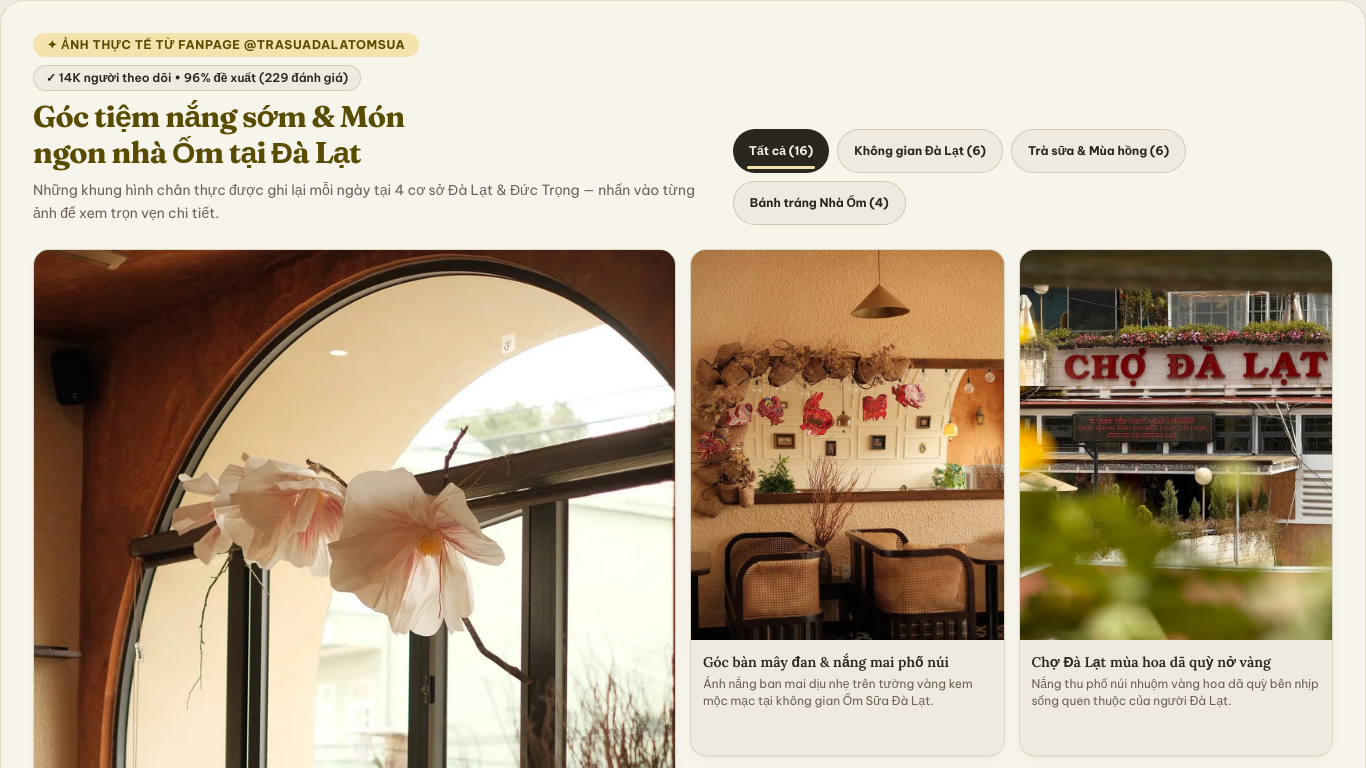
it: FanpageGallerySection, PhotoLightboxModal & BrandFooter social/branch photos › filters gallery photos by category, cycles lightbox with ArrowRight/ArrowLeft wrap-around, and restores focus on Escape
Expected: the text "✓ 14K người theo dõi • 96% đề xuất (229 đánh giá)" is shown, x1=33 y1=65 x2=361 y2=91
Click the button "Bánh tráng Nhà Ốm (4)" at (819, 202), box x1=733 y1=180 x2=906 y2=224
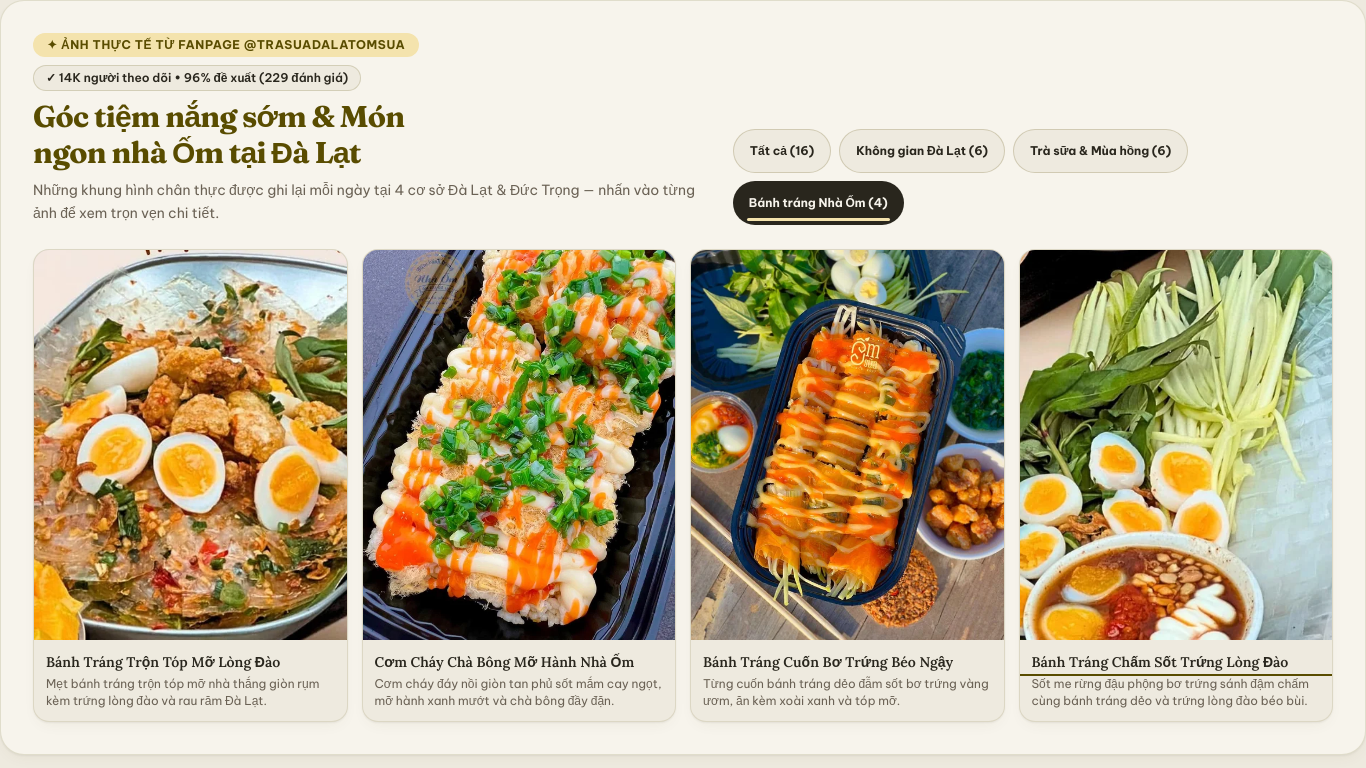
Expected: the number of buttons named "Xem ảnh lớn" is 4
Click the button named "Xem ảnh lớn" at (1176, 461), box x1=1020 y1=250 x2=1332 y2=672
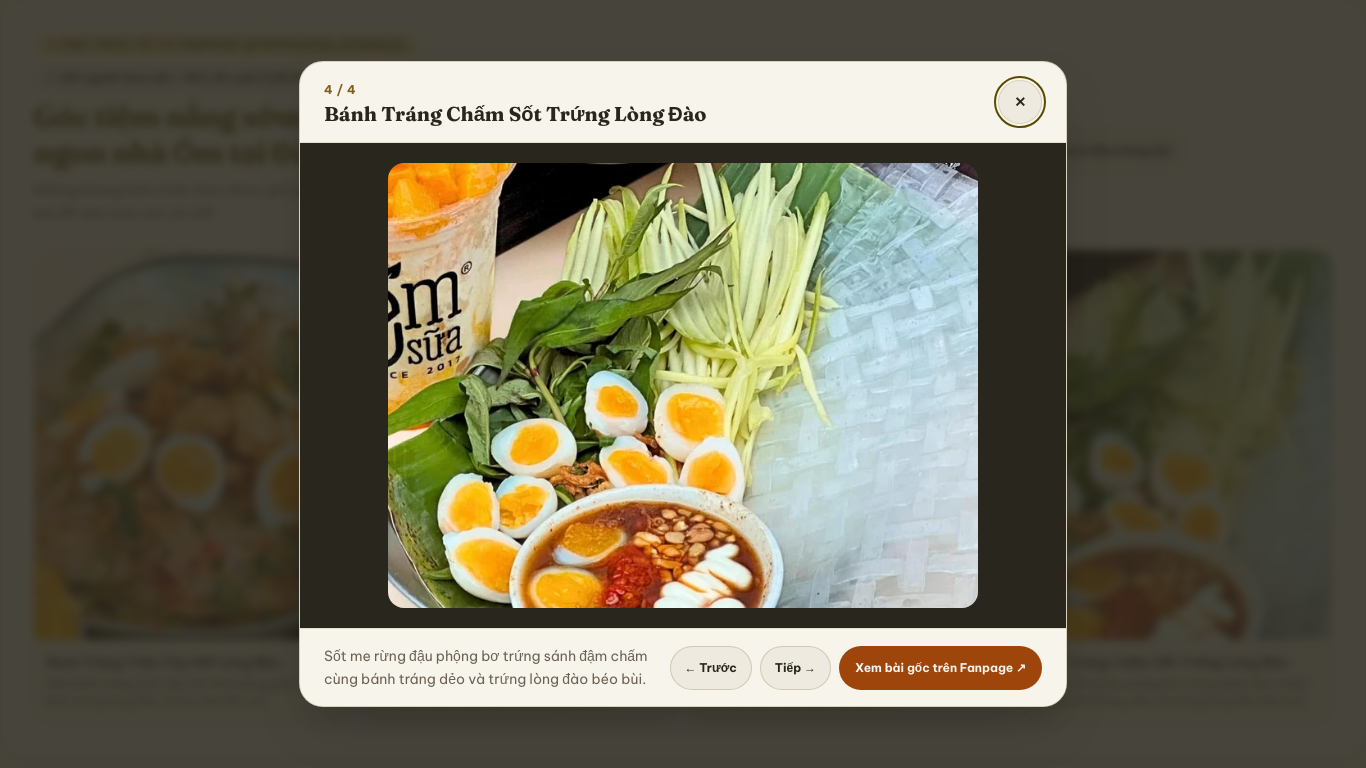
Expected: the text "4 / 4" is shown, x1=324 y1=82 x2=356 y2=96
Press ArrowRight
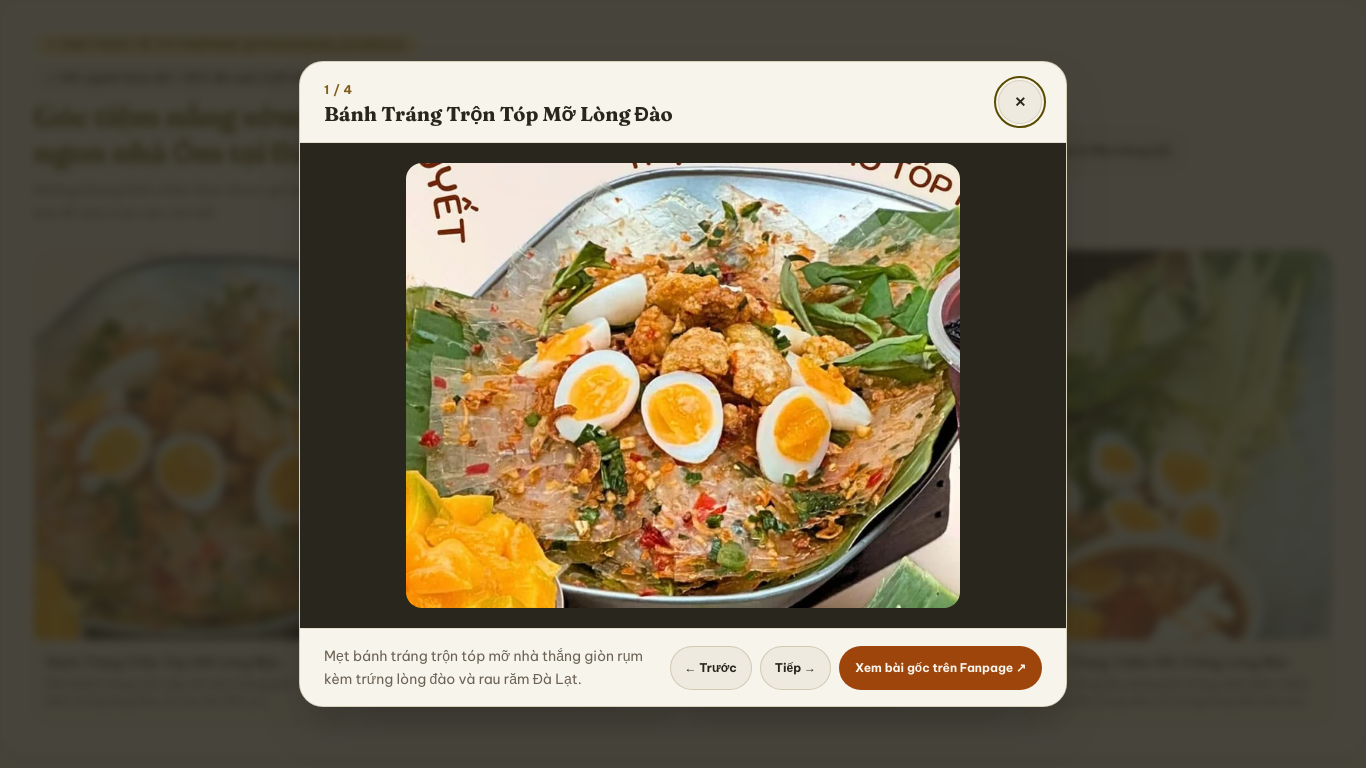
Expected: the text "1 / 4" is shown, x1=324 y1=82 x2=353 y2=96
Press ArrowLeft
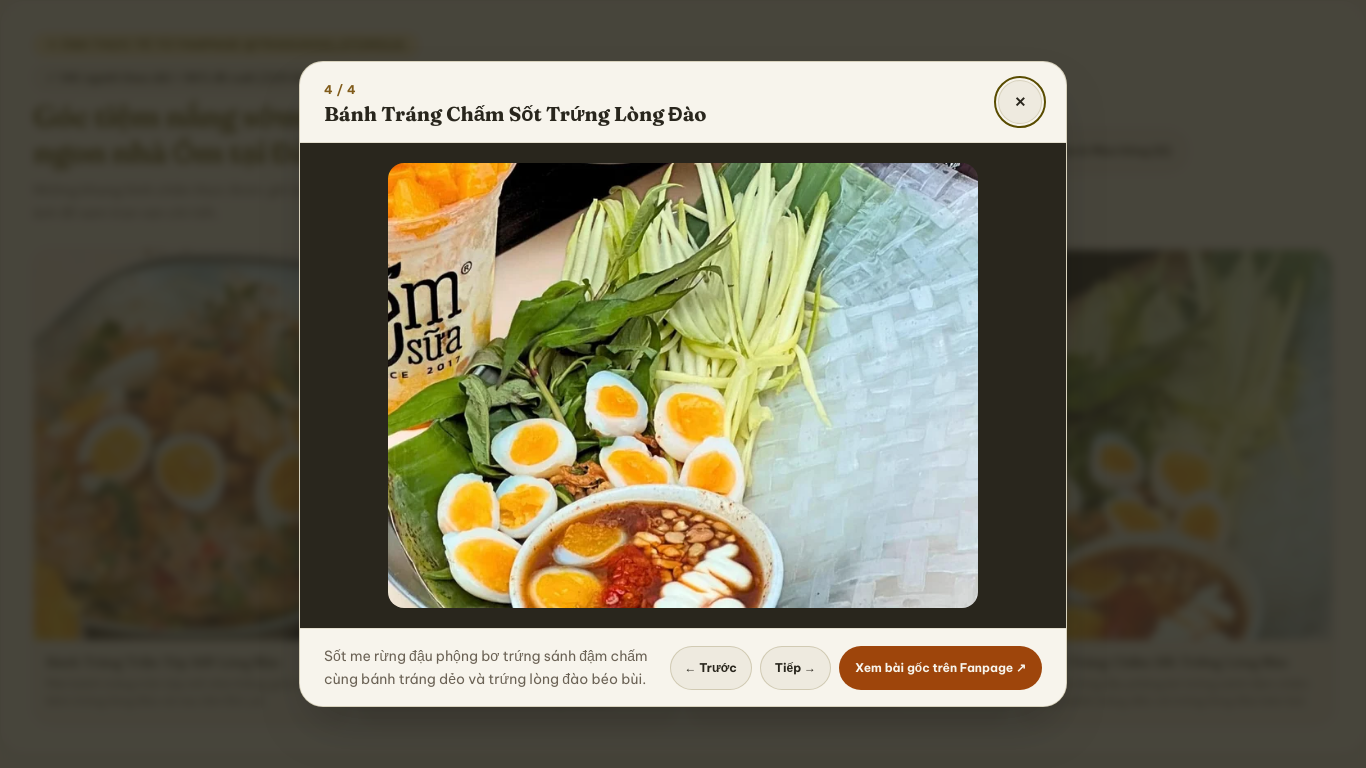
Expected: the text "4 / 4" is shown, x1=324 y1=82 x2=356 y2=96
Press Escape
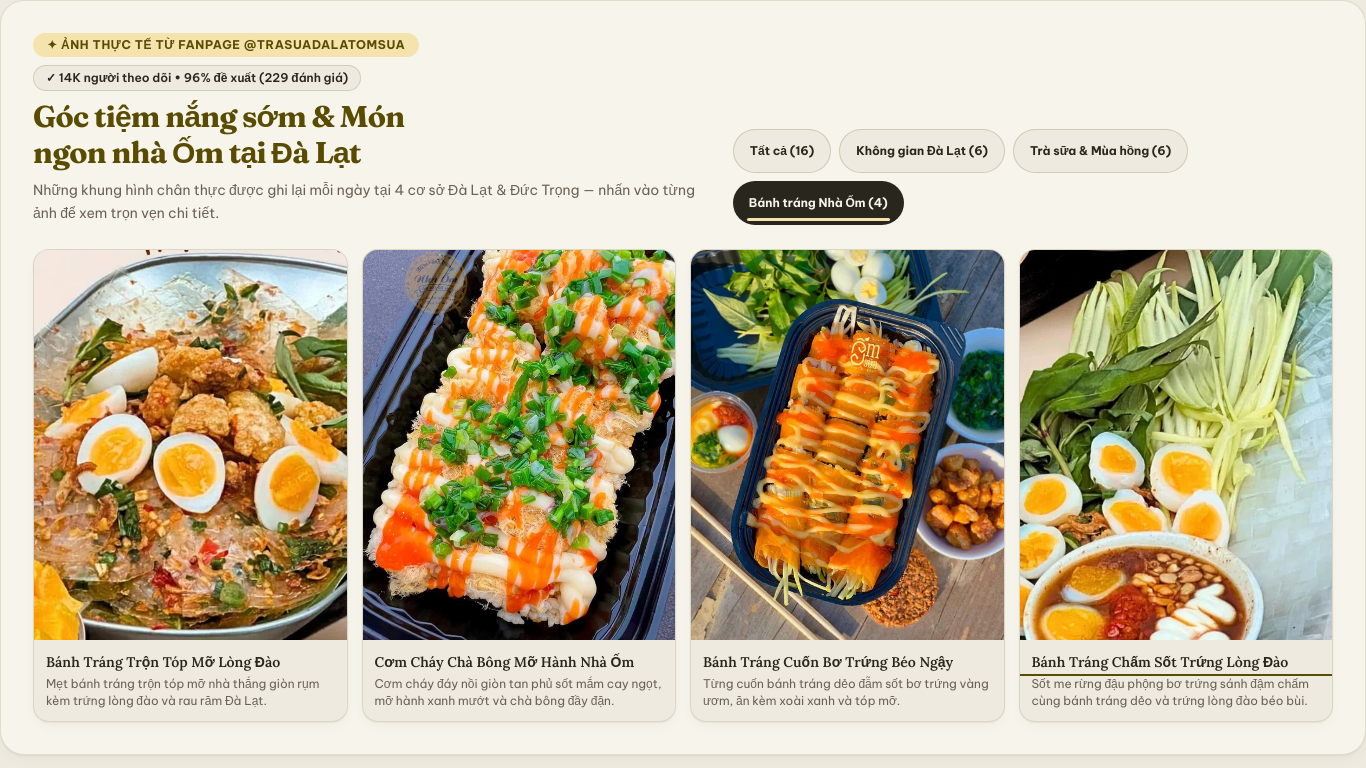
Expected: the dialog is gone
